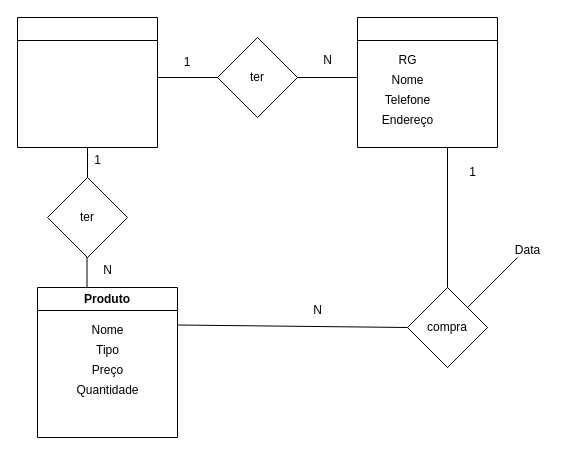
This 570x455 diagram has some shape labels left out. The box of each missing label's shape, as (x1, y1, x2, y2) in pixels:
Cliente: (356, 16, 498, 148)
Floricultura: (16, 16, 158, 148)
